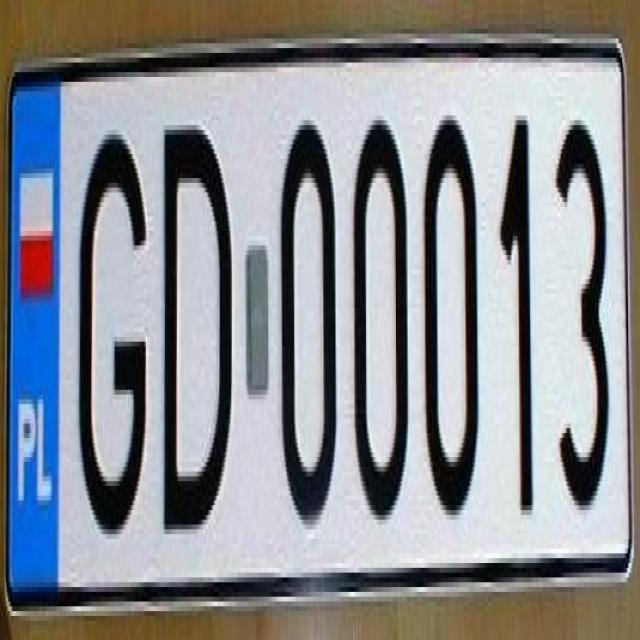pl_license_plate: (4, 43, 632, 597)
